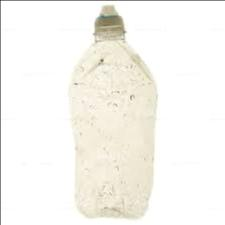bottle: (61, 4, 158, 225)
